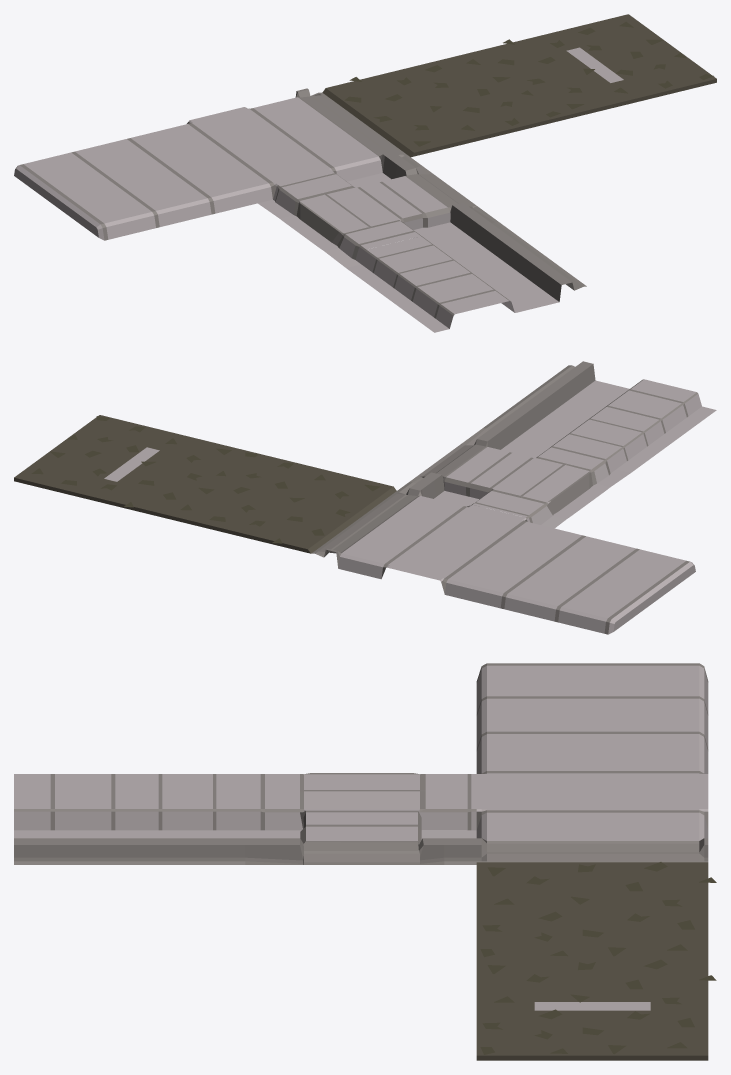
The model's file is Sidewalk.fbx.
3 views of the same model, one above another, from view 1: azimuth 30°, elevation 25°; view 2: azimuth 150°, elevation 25°; view 3: azimuth 270°, elevation 25° (orthographic). The views are drawn at different scales.
Visible parts, largest first — view 1: Sidewalk_Einfahrt2, Sidewalk, Sidewalk_pathToHouse, Sidewalk_Einfahrt, Sidewalk_Street, Sidewalk_Street.Stripes, StreetDirt.001, StreetDirt; view 2: Sidewalk_Einfahrt2, Sidewalk, Sidewalk_Einfahrt, Sidewalk_pathToHouse, Sidewalk_Street, Sidewalk_Street.Stripes, StreetDirt.001, StreetDirt; view 3: Sidewalk_Einfahrt, Sidewalk_Einfahrt2, Sidewalk_Street.Stripes, Sidewalk_pathToHouse, Sidewalk, Sidewalk_Street, StreetDirt.001, StreetDirt.
Boxes of the visible parts, bbox=[...] form: Sidewalk_Einfahrt2: bbox=[14, 127, 257, 240]; Sidewalk: bbox=[346, 218, 586, 332]; Sidewalk_pathToHouse: bbox=[258, 153, 498, 267]; Sidewalk_Einfahrt: bbox=[173, 88, 409, 203]; Sidewalk_Street: bbox=[322, 51, 563, 157]; Sidewalk_Street.Stripes: bbox=[476, 14, 716, 119]; StreetDirt.001: bbox=[498, 21, 713, 109]; StreetDirt: bbox=[344, 59, 560, 146]; Sidewalk_Einfahrt2: bbox=[459, 525, 695, 634]; Sidewalk: bbox=[483, 361, 716, 472]; Sidewalk_Einfahrt: bbox=[312, 487, 540, 598]; Sidewalk_pathToHouse: bbox=[397, 424, 630, 528]; Sidewalk_Street: bbox=[162, 451, 396, 553]; Sidewalk_Street.Stripes: bbox=[14, 415, 247, 517]; StreetDirt.001: bbox=[31, 416, 231, 507]; StreetDirt: bbox=[180, 452, 380, 543]; Sidewalk_Einfahrt: bbox=[476, 761, 708, 862]; Sidewalk_Einfahrt2: bbox=[476, 663, 708, 773]; Sidewalk_Street.Stripes: bbox=[476, 958, 708, 1060]; Sidewalk_pathToHouse: bbox=[245, 773, 476, 864]; Sidewalk: bbox=[14, 774, 245, 864]; Sidewalk_Street: bbox=[476, 862, 708, 957]; StreetDirt.001: bbox=[480, 959, 716, 1054]; StreetDirt: bbox=[480, 862, 716, 957].
Bounding box in the file's own units: 1611 × 41.57 × 1215.
